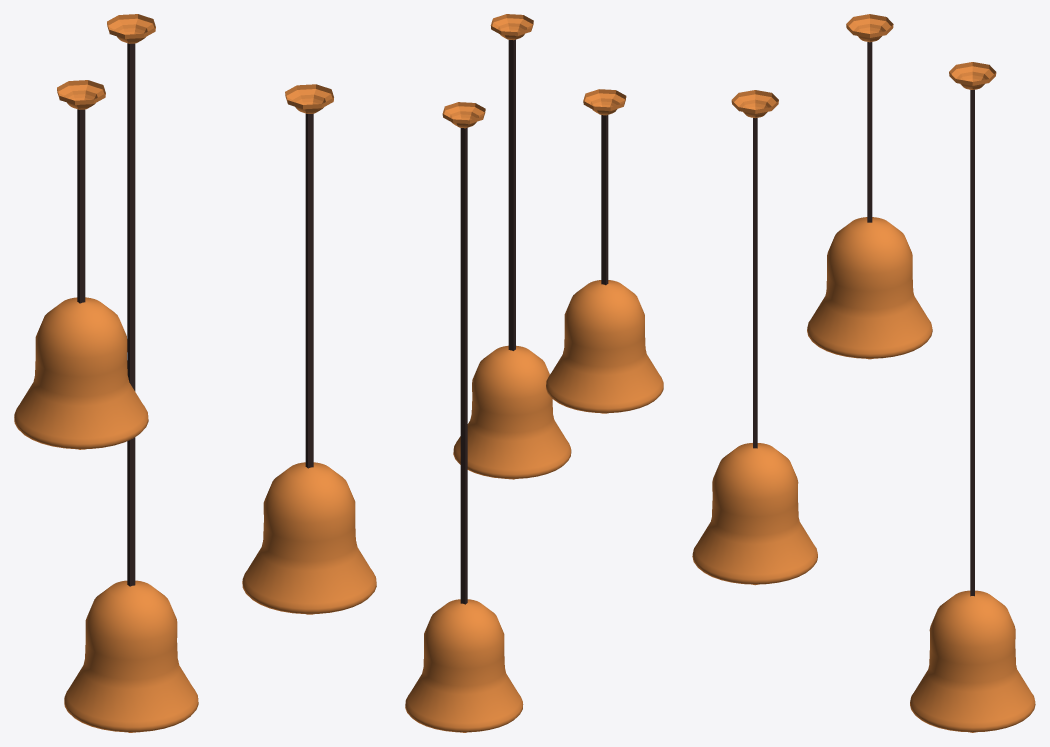
The model's file is fbx_Bells_02.fbx.
3 views of the same model, side by side, from view 1: azimuth 30°, elevation 25°; view 2: azimuth 150°, elevation 25°; view 3: azimuth 270°, elevation 25° (orthographic). The views are drawn at different scales.
Parts seen in each view (by area): view 1: Cylinder.022; view 2: Cylinder.022; view 3: Cylinder.022.
Part boxes in pixels (x1,y1,x2,y2): Cylinder.022: (14,14,376,732); Cylinder.022: (405,14,663,732); Cylinder.022: (692,14,1035,732).
Size of the model in its own units: 40.22 by 95.84 by 45.2.
